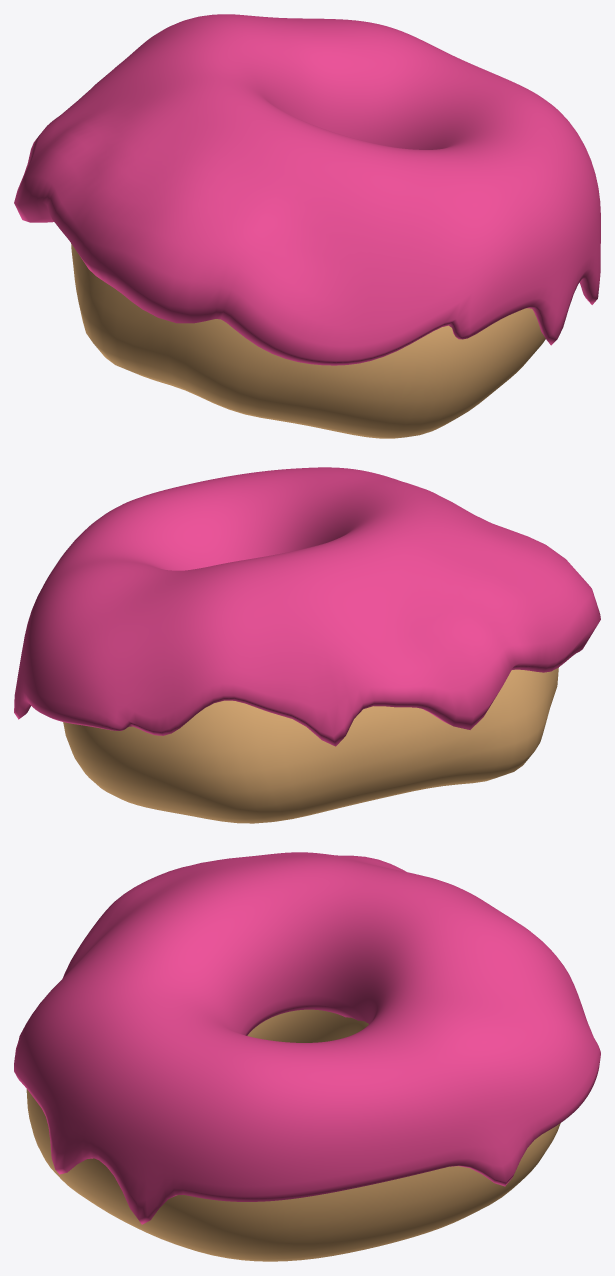
The model's file is doughnut.fbx.
3 renders of one model, top to bottom at view 1: azimuth 30°, elevation 25°; view 2: azimuth 150°, elevation 25°; view 3: azimuth 270°, elevation 25°, orthographic. The views are drawn at different scales.
Parts seen in each view (by area): view 1: icing, Torus; view 2: icing, Torus; view 3: icing, Torus.
Boxes of the visible parts, <box> form: icing: <box>14,14,600,365</box>; Torus: <box>71,243,545,438</box>; icing: <box>14,467,600,746</box>; Torus: <box>63,667,558,823</box>; icing: <box>14,852,600,1224</box>; Torus: <box>26,1009,560,1261</box>.
Size of what is drawn, in the model's own units: 33.02 by 18.14 by 34.39.
